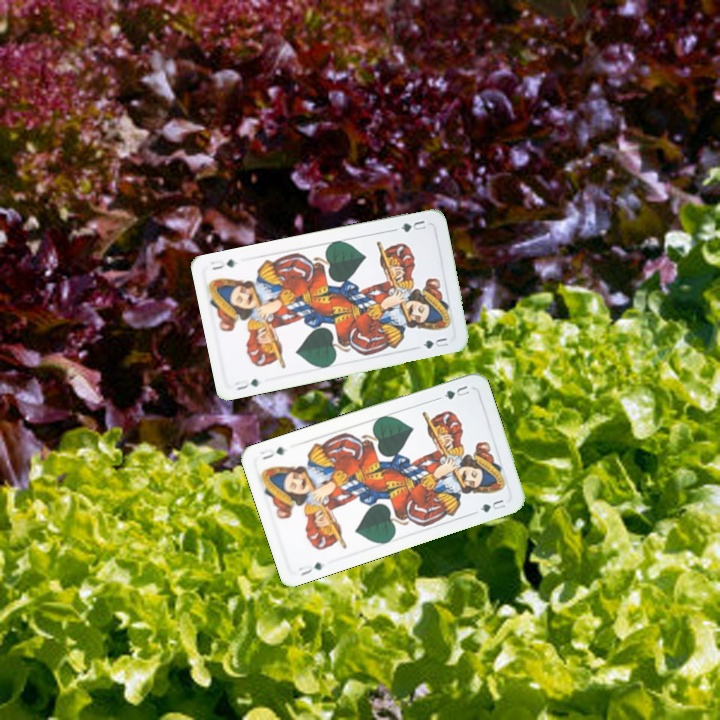GU: (440, 381, 472, 402), (396, 216, 429, 235), (295, 558, 325, 578), (231, 374, 262, 393)
